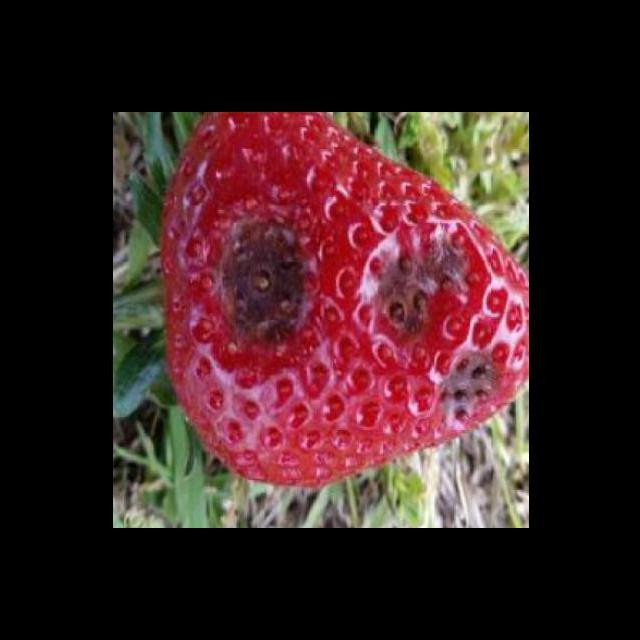Anthracnose Fruit Rot: (349, 207, 478, 356), (212, 193, 320, 353), (432, 338, 504, 437)
